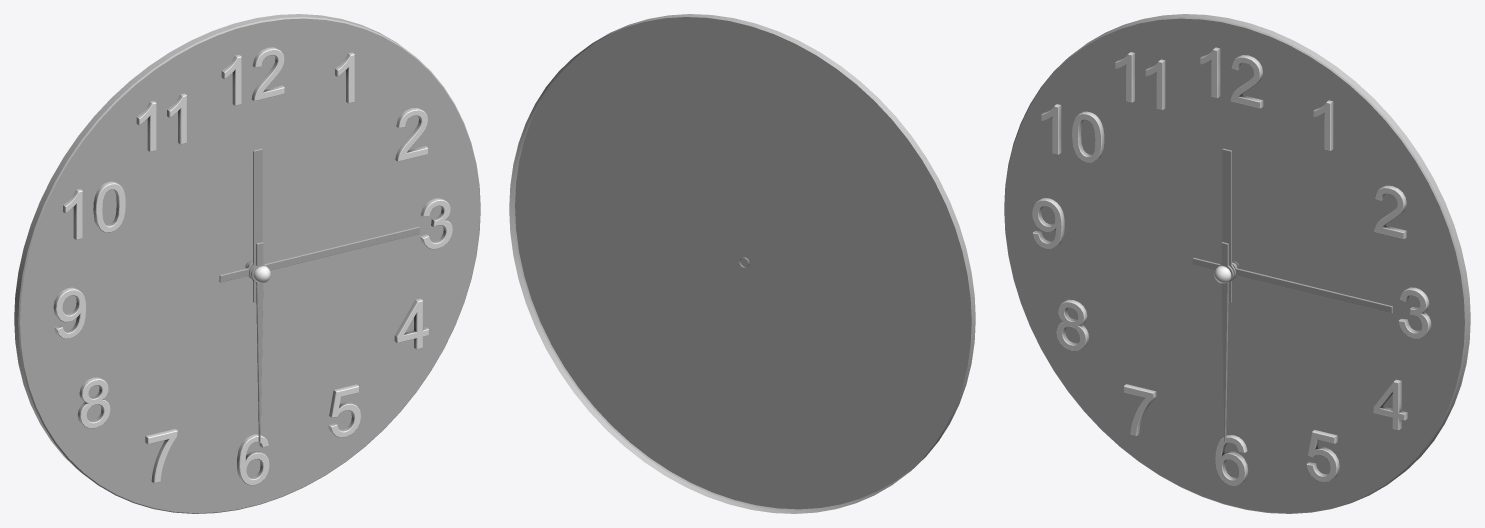
File: Clock - Scaled.fbx
The picture shows the model from 3 angles, left to right: view 1: azimuth 30°, elevation 25°; view 2: azimuth 150°, elevation 25°; view 3: azimuth 330°, elevation 25°; orthographic projection.
Parts seen in each view (by area): view 1: Clock_Face, Clock_Num_10, Clock_Num_12, Clock_Minute_Hand, Clock_Num_11, Clock_Hour_Hand, Clock_Num_08, Clock_Second_Hand, Clock_Num_09, Clock_Num_06, Clock_Num_05, Clock_Num_02 (+4 smaller); view 2: Clock_Face; view 3: Clock_Face, Clock_Num_10, Clock_Minute_Hand, Clock_Num_12, Clock_Hour_Hand, Clock_Num_11, Clock_Num_08, Clock_Second_Hand, Clock_Num_06, Clock_Num_09, Clock_Num_05, Clock_Num_03 (+4 smaller).
Part boxes in pixels (x1,y1,x2,y2): Clock_Face: (14,14,480,513); Clock_Num_10: (63,181,125,239); Clock_Num_12: (221,47,284,105); Clock_Minute_Hand: (219,226,419,282); Clock_Num_11: (136,93,186,151); Clock_Hour_Hand: (249,148,263,302); Clock_Num_08: (77,377,110,428); Clock_Second_Hand: (251,242,266,441); Clock_Num_09: (53,287,86,338); Clock_Num_06: (237,434,269,485); Clock_Num_05: (328,384,360,437); Clock_Num_02: (395,108,428,161); Clock_Face: (509,14,975,513); Clock_Face: (1004,14,1470,513); Clock_Num_10: (1041,104,1104,162); Clock_Minute_Hand: (1192,258,1392,313); Clock_Num_12: (1200,47,1263,108); Clock_Hour_Hand: (1221,148,1235,302); Clock_Num_11: (1115,52,1165,109); Clock_Num_08: (1056,299,1088,350); Clock_Second_Hand: (1218,242,1233,441); Clock_Num_06: (1215,435,1248,485); Clock_Num_09: (1032,198,1064,248); Clock_Num_05: (1306,430,1339,481); Clock_Num_03: (1398,287,1431,338).
Size of the model in its own units: 150 by 150 by 11.69.
